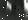person: (23, 1, 28, 20), (9, 3, 12, 13)
